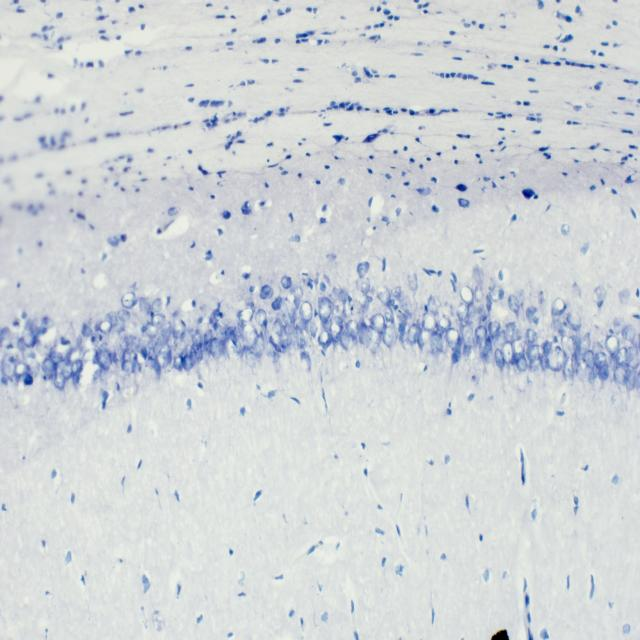neuron: (75, 362, 102, 385), (544, 346, 566, 373), (134, 361, 152, 389), (364, 325, 381, 353), (21, 319, 37, 348), (145, 356, 161, 384), (300, 328, 314, 358), (328, 317, 344, 343), (95, 348, 113, 371), (157, 343, 173, 368), (242, 324, 258, 349), (382, 324, 398, 348), (560, 334, 576, 358), (339, 331, 358, 351), (118, 384, 138, 402), (286, 322, 298, 352), (0, 325, 13, 352), (317, 297, 331, 322), (626, 345, 640, 370), (563, 356, 575, 385), (204, 337, 221, 357), (139, 296, 154, 318), (244, 346, 259, 368), (504, 321, 519, 343), (605, 334, 620, 356), (2, 354, 15, 379), (279, 327, 292, 352), (512, 336, 525, 361), (270, 319, 282, 346), (460, 324, 474, 347), (467, 309, 481, 332), (369, 314, 385, 334), (567, 310, 582, 331), (501, 340, 514, 364), (52, 367, 66, 389), (445, 328, 459, 350), (66, 346, 83, 364), (526, 344, 543, 362), (279, 298, 295, 317), (422, 311, 437, 331), (488, 282, 503, 302), (190, 342, 204, 363), (377, 285, 391, 306), (40, 315, 56, 333), (36, 339, 52, 357), (332, 298, 344, 322), (27, 358, 40, 380), (345, 319, 360, 338), (551, 297, 566, 316), (49, 343, 63, 363), (460, 286, 474, 306), (614, 366, 628, 386), (22, 344, 34, 367), (418, 326, 430, 349), (41, 358, 54, 379), (90, 330, 106, 347), (238, 306, 254, 323), (144, 320, 159, 338), (356, 318, 366, 345), (355, 276, 370, 294), (529, 357, 544, 375), (172, 320, 186, 339), (318, 331, 332, 350), (253, 334, 265, 356), (300, 350, 312, 372), (300, 300, 312, 322), (579, 332, 591, 354), (594, 284, 606, 306), (426, 294, 439, 314), (526, 306, 539, 326), (552, 313, 565, 333), (121, 348, 138, 363), (112, 348, 126, 366), (408, 322, 420, 343), (456, 302, 470, 320), (508, 294, 520, 315), (583, 349, 595, 370), (122, 291, 136, 309), (615, 347, 628, 366), (626, 369, 637, 391), (14, 361, 29, 377), (222, 325, 237, 341), (356, 262, 372, 277), (488, 320, 500, 340), (399, 294, 412, 312), (613, 316, 626, 334), (182, 353, 194, 372), (117, 309, 132, 324), (12, 347, 26, 363), (441, 302, 454, 319), (475, 325, 488, 342), (597, 366, 610, 383), (62, 359, 73, 379), (407, 271, 418, 291), (209, 309, 221, 327), (255, 308, 267, 326), (283, 309, 295, 327), (624, 324, 636, 342), (151, 313, 165, 328), (472, 264, 483, 283), (539, 353, 550, 372), (105, 310, 118, 326), (121, 359, 133, 376), (482, 336, 492, 356), (583, 364, 593, 384), (205, 328, 212, 356), (289, 284, 303, 298), (437, 318, 451, 332), (82, 349, 98, 361), (152, 297, 164, 313), (160, 320, 172, 336), (594, 352, 606, 368), (618, 288, 630, 304), (173, 355, 184, 372), (99, 320, 112, 334), (10, 331, 20, 349), (70, 359, 82, 374), (233, 337, 242, 357), (260, 284, 272, 299), (308, 321, 318, 339), (474, 285, 484, 303), (337, 288, 348, 304), (476, 335, 484, 357), (516, 355, 527, 371), (541, 340, 552, 356), (495, 348, 504, 367), (81, 323, 93, 337), (215, 328, 227, 342), (271, 296, 283, 310), (130, 334, 141, 349), (186, 343, 197, 358), (358, 294, 373, 305), (132, 356, 141, 374), (192, 330, 202, 346), (282, 274, 292, 290), (496, 329, 506, 345), (592, 340, 603, 354), (526, 328, 536, 343), (516, 289, 524, 306), (384, 312, 395, 324), (357, 305, 368, 317), (485, 294, 492, 312), (538, 290, 545, 308), (296, 337, 306, 349), (274, 352, 280, 372), (577, 364, 584, 380), (17, 338, 26, 350), (398, 322, 406, 334), (146, 340, 156, 349), (391, 287, 401, 296)
